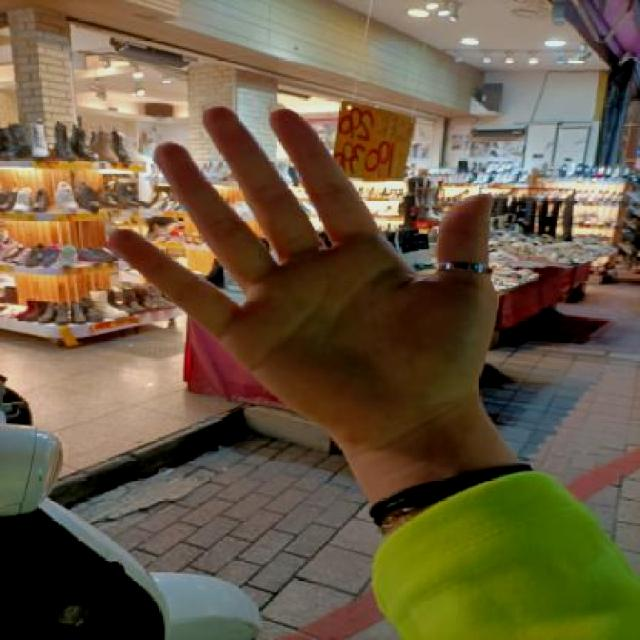no_glove: (98, 94, 511, 463)
